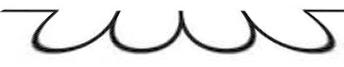inductor: (23, 2, 336, 60)
